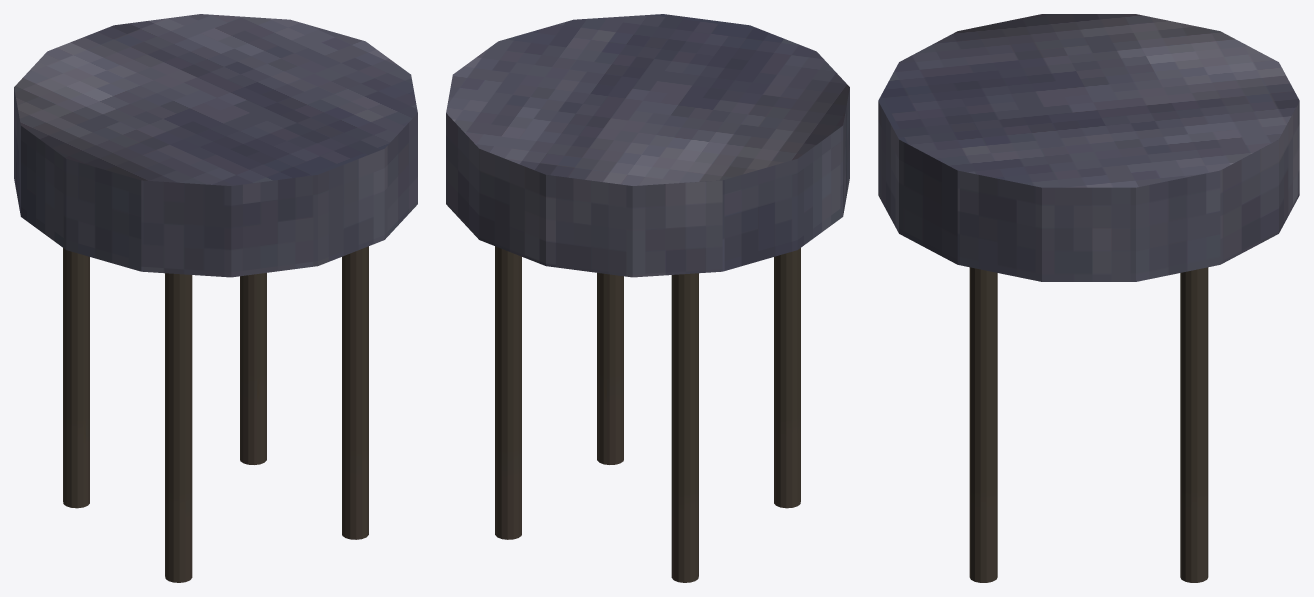
Rendered from bar_stool.glb.
The picture shows the model from 3 angles, left to right: view 1: azimuth 30°, elevation 25°; view 2: azimuth 150°, elevation 25°; view 3: azimuth 270°, elevation 25°; orthographic projection. The views are drawn at different scales.
Visible parts, largest first — view 1: Cylinder; view 2: Cylinder; view 3: Cylinder.
Boxes of the visible parts, x1,y1,x2,y2 form: Cylinder: [14, 14, 417, 582]; Cylinder: [446, 14, 849, 582]; Cylinder: [878, 14, 1299, 582].
Bounding box in the file's own units: 0.8022 × 0.9297 × 0.8228.
2 materials, 2 textured.
